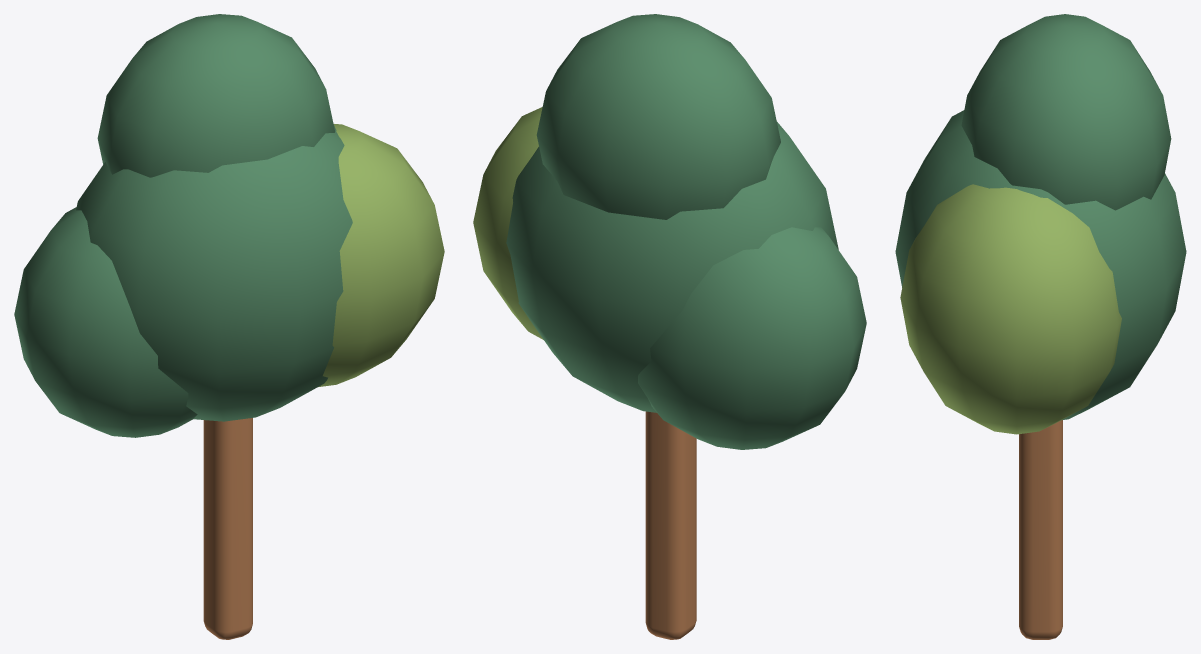
The model's file is tree.glb.
The picture shows the model from 3 angles, left to right: view 1: azimuth 30°, elevation 25°; view 2: azimuth 150°, elevation 25°; view 3: azimuth 270°, elevation 25°; orthographic projection. The views are drawn at different scales.
Visible parts, largest first — view 1: Rounded canopy, Rounded canopy.003, Rounded canopy.001, Rounded canopy.002, Oak trunk; view 2: Rounded canopy.003, Rounded canopy, Rounded canopy.001, Oak trunk, Rounded canopy.002; view 3: Rounded canopy.002, Rounded canopy.003, Rounded canopy, Oak trunk.
Part boxes in pixels (x1=…): Rounded canopy: x1=76, y1=124, x2=352, y2=421; Rounded canopy.003: x1=97, y1=14, x2=334, y2=177; Rounded canopy.001: x1=14, y1=207, x2=197, y2=437; Rounded canopy.002: x1=319, y1=124, x2=444, y2=386; Oak trunk: x1=203, y1=418, x2=252, y2=639; Rounded canopy.003: x1=536, y1=14, x2=780, y2=219; Rounded canopy: x1=506, y1=122, x2=838, y2=412; Rounded canopy.001: x1=638, y1=227, x2=866, y2=449; Oak trunk: x1=645, y1=411, x2=696, y2=639; Rounded canopy.002: x1=473, y1=107, x2=543, y2=339; Rounded canopy.002: x1=900, y1=184, x2=1121, y2=434; Rounded canopy.003: x1=961, y1=14, x2=1171, y2=210; Rounded canopy: x1=895, y1=110, x2=1186, y2=419; Oak trunk: x1=1019, y1=420, x2=1062, y2=639.
Size of the model in its own units: 2.21 by 3.34 by 1.45.
